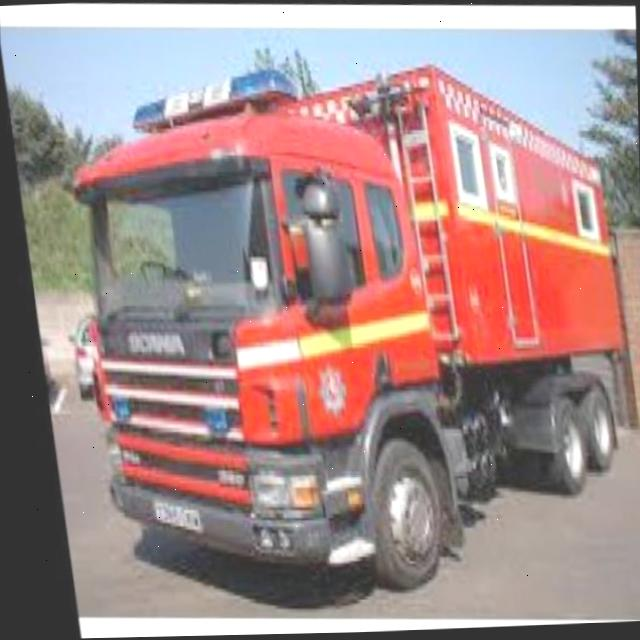emergency: (62, 54, 640, 603)
